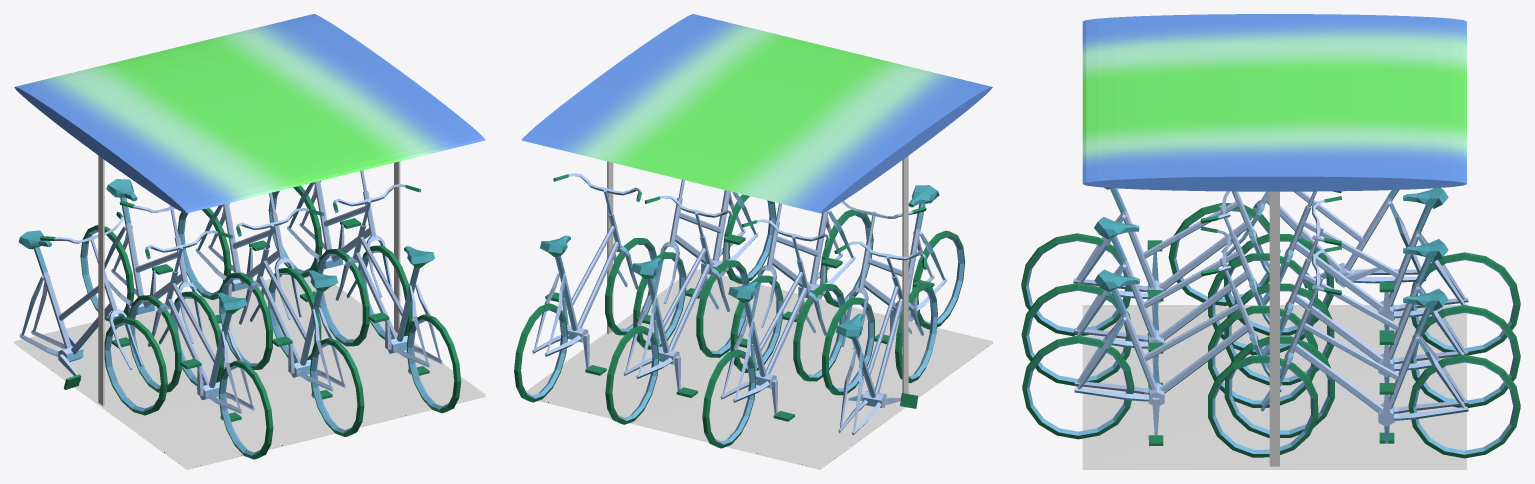
File: bike-station1.glb
3 renders of one model, left to right at view 1: azimuth 30°, elevation 25°; view 2: azimuth 150°, elevation 25°; view 3: azimuth 270°, elevation 25°, orthographic. The views are drawn at different scales.
Parts seen in each view (by area): view 1: Cylinder, Cube, bike_body_dummyProp_0.007, bike_body_dummyProp_0.008, bike_body_dummyProp_0.005, bike_body_dummyProp_0.011, bike_body_dummyProp_0.003, bike_body_dummyProp_0.001, bike_body, bike_tyre1_dummyProp_0.011, Cube.001, bike_tyre2_dummyProp_0.008 (+16 smaller); view 2: Cylinder, Cube, bike_body_dummyProp_0.003, bike_body_dummyProp_0.001, bike_body, bike_body_dummyProp_0.011, bike_body_dummyProp_0.008, bike_body_dummyProp_0.007, bike_body_dummyProp_0.005, Cube.001, bike_tyre2_dummyProp_0.003, bike_tyre2 (+16 smaller); view 3: Cylinder, Cube, bike_body_dummyProp_0.005, bike_body_dummyProp_0.001, bike_body_dummyProp_0.007, bike_body, bike_body_dummyProp_0.003, bike_body_dummyProp_0.008, Cube.002, bike_body_dummyProp_0.011, bike_tyre2_dummyProp_0.001, bike_tyre2_dummyProp_0.005 (+14 smaller).
Boxes of the visible parts, left/top/right/bottom form: Cylinder: left=14, top=14, right=485, bottom=213; Cube: left=14, top=270, right=485, bottom=469; bike_body_dummyProp_0.007: left=256, top=247, right=345, bottom=391; bike_body_dummyProp_0.008: left=165, top=270, right=254, bottom=413; bike_body_dummyProp_0.005: left=353, top=223, right=442, bottom=367; bike_body_dummyProp_0.011: left=18, top=230, right=117, bottom=362; bike_body_dummyProp_0.003: left=104, top=179, right=187, bottom=314; bike_body_dummyProp_0.001: left=287, top=180, right=375, bottom=269; bike_body: left=195, top=203, right=284, bottom=291; bike_tyre1_dummyProp_0.011: left=104, top=317, right=167, bottom=415; Cube.001: left=98, top=155, right=104, bottom=405; bike_tyre2_dummyProp_0.008: left=219, top=360, right=273, bottom=459; Cylinder: left=521, top=14, right=992, bottom=213; Cube: left=526, top=269, right=992, bottom=469; bike_body_dummyProp_0.003: left=720, top=258, right=809, bottom=402; bike_body_dummyProp_0.001: left=532, top=213, right=621, bottom=356; bike_body: left=623, top=235, right=712, bottom=378; bike_body_dummyProp_0.011: left=836, top=274, right=902, bottom=435; bike_body_dummyProp_0.008: left=858, top=185, right=946, bottom=321; bike_body_dummyProp_0.007: left=767, top=209, right=855, bottom=299; bike_body_dummyProp_0.005: left=669, top=190, right=758, bottom=275; Cube.001: left=902, top=156, right=908, bottom=393; bike_tyre2_dummyProp_0.003: left=702, top=349, right=756, bottom=448; bike_tyre2: left=605, top=325, right=659, bottom=424; Cylinder: left=1082, top=14, right=1466, bottom=191; Cube: left=1082, top=305, right=1466, bottom=469; bike_body_dummyProp_0.005: left=1074, top=269, right=1255, bottom=405; bike_body_dummyProp_0.001: left=1287, top=288, right=1468, bottom=426; bike_body_dummyProp_0.007: left=1074, top=216, right=1254, bottom=350; bike_body: left=1287, top=239, right=1468, bottom=376; bike_body_dummyProp_0.003: left=1287, top=188, right=1468, bottom=320; bike_body_dummyProp_0.008: left=1073, top=187, right=1254, bottom=303; Cube.002: left=1269, top=191, right=1279, bottom=466; bike_body_dummyProp_0.011: left=1259, top=190, right=1426, bottom=287; bike_tyre2_dummyProp_0.001: left=1408, top=354, right=1520, bottom=458; bike_tyre2_dummyProp_0.005: left=1022, top=335, right=1134, bottom=439.
Bounding box in the file's own units: 2.44 × 1.68 × 2.6.
14 materials, 13 textured.
